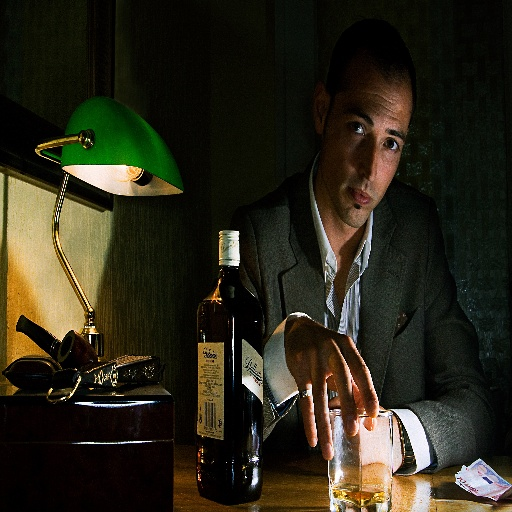hand: (283, 315, 371, 465), (327, 394, 403, 489)
